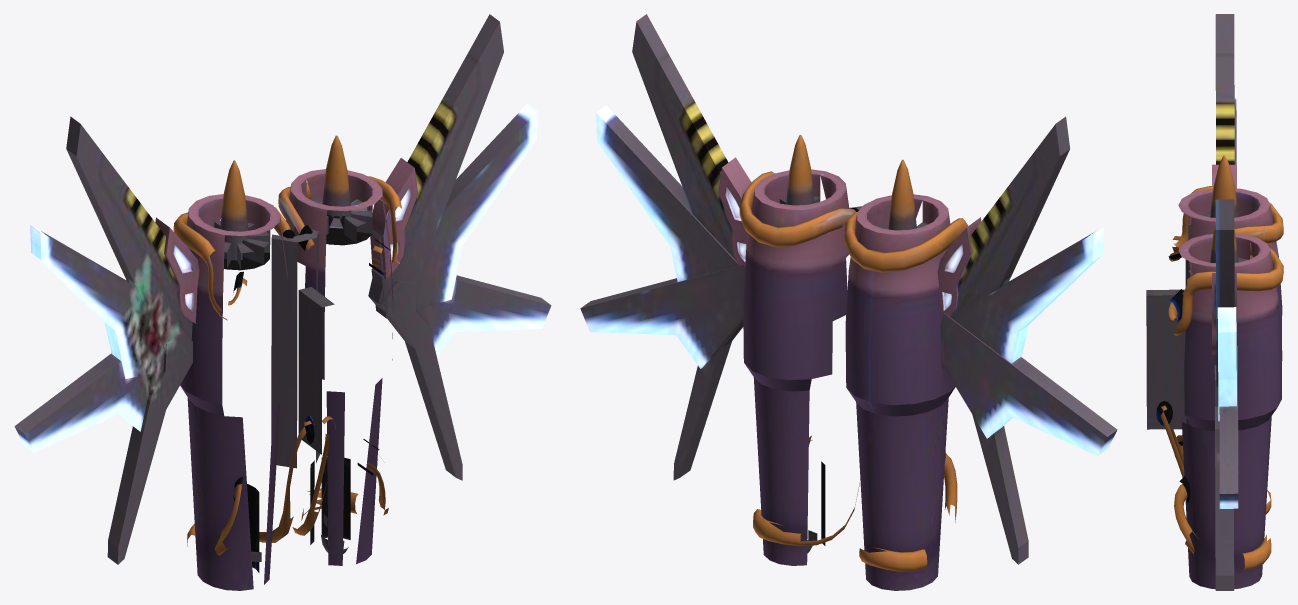
The model's file is j3ff_pack.glb.
3 views of the same model, side by side, from view 1: azimuth 30°, elevation 25°; view 2: azimuth 150°, elevation 25°; view 3: azimuth 270°, elevation 25° (orthographic). The views are drawn at different scales.
Parts seen in each view (by area): view 1: j3ff; view 2: j3ff; view 3: j3ff.
Boxes of the visible parts, bbox=[...] form: j3ff: bbox=[14, 14, 551, 590]; j3ff: bbox=[580, 14, 1117, 590]; j3ff: bbox=[1146, 14, 1283, 590].
Bounding box in the file's own units: 63.98 × 57.89 × 15.93.
Materials: 1 (1 with a texture image).
